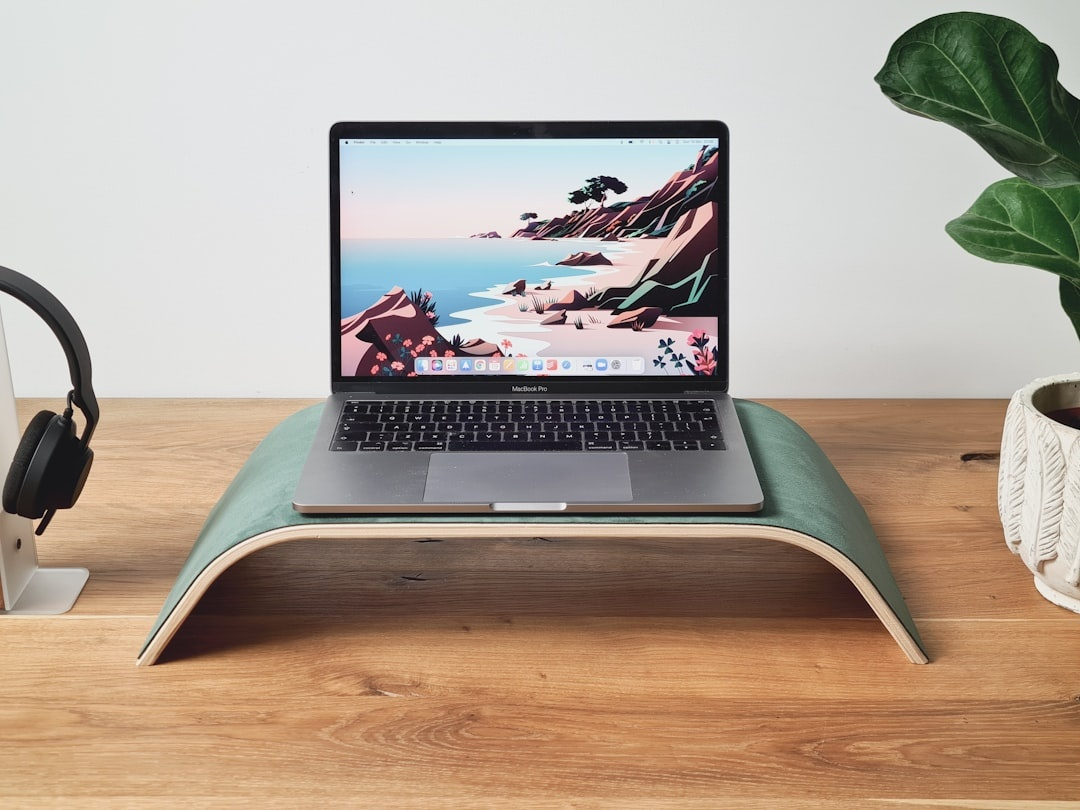laptop: (278, 98, 781, 521)
